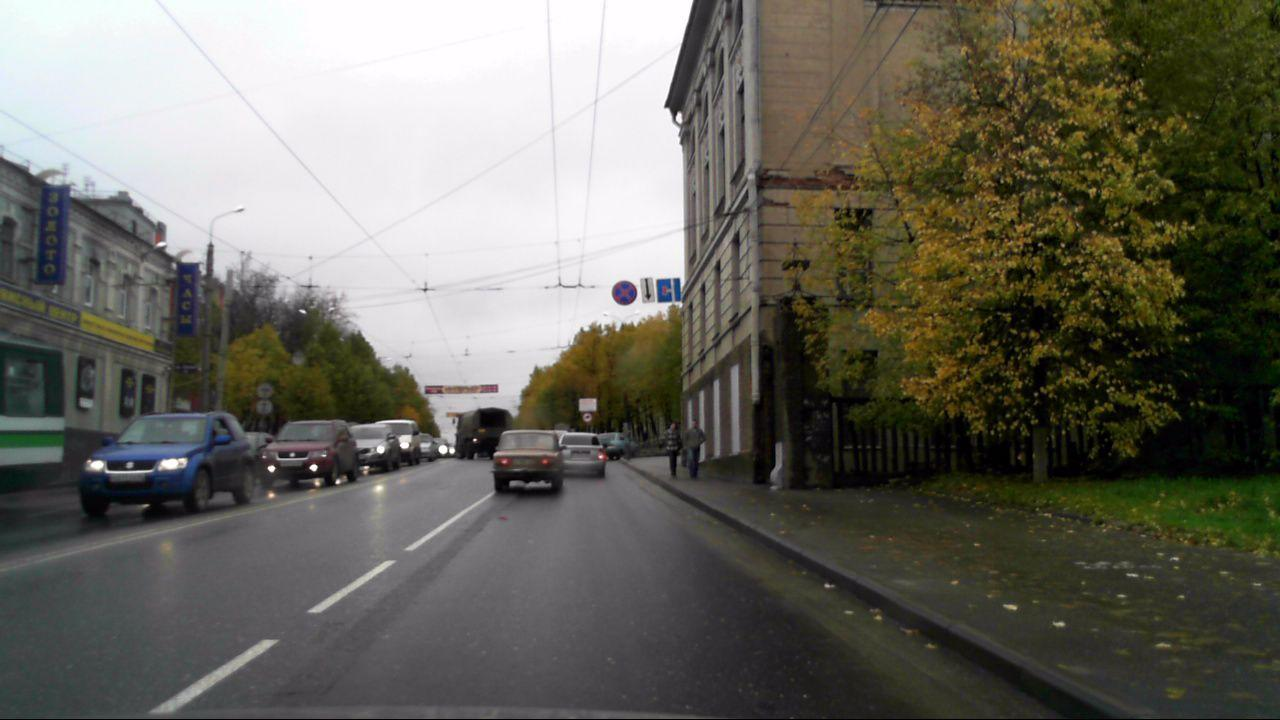3_27: (611, 278, 637, 306)
3_4: (582, 410, 594, 424)
6_8_3: (656, 278, 681, 302)
8_2_3: (639, 276, 655, 303)
